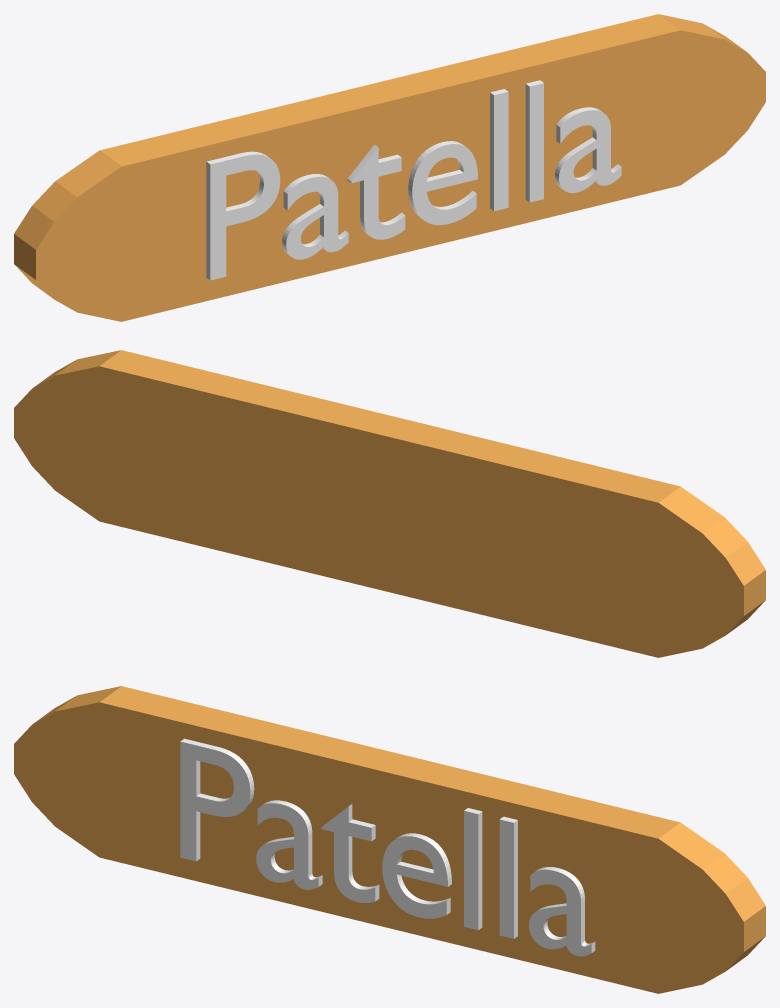
Rendered from txtPatella.fbx.
3 renders of one model, top to bottom at view 1: azimuth 30°, elevation 25°; view 2: azimuth 150°, elevation 25°; view 3: azimuth 330°, elevation 25°, orthographic.
Visible parts, largest first — view 1: TagContainer.014, Text.014; view 2: TagContainer.014; view 3: TagContainer.014, Text.014.
Boxes of the visible parts, x1,y1,x2,y2 form: TagContainer.014: (14,14,765,321); Text.014: (206,80,621,280); TagContainer.014: (14,350,765,657); TagContainer.014: (14,686,765,993); Text.014: (180,738,595,956).
Size of the model in its own units: 203 by 41.3 by 12.58.
